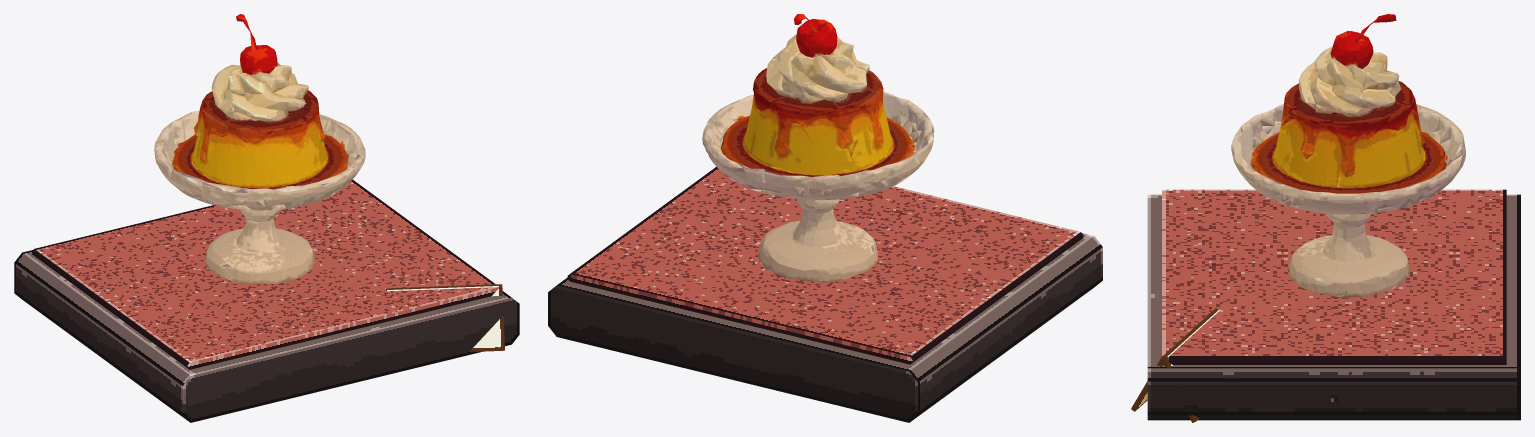
File: pudding.glb
3 views of the same model, side by side, from view 1: azimuth 30°, elevation 25°; view 2: azimuth 150°, elevation 25°; view 3: azimuth 270°, elevation 25° (orthographic). The views are drawn at different scales.
Visible parts, largest first — view 1: felt, model_purin, base, card1; view 2: felt, model_purin, base; view 3: felt, model_purin, base, card1.
Boxes of the visible parts, <box> form: felt: <box>32,179,499,369</box>; model_purin: <box>154,14,365,284</box>; base: <box>14,250,519,422</box>; card1: <box>386,286,504,351</box>; felt: <box>567,167,1083,364</box>; model_purin: <box>702,14,934,282</box>; base: <box>548,233,1102,422</box>; felt: <box>1162,189,1506,364</box>; model_purin: <box>1231,14,1465,297</box>; base: <box>1147,194,1520,420</box>; card1: <box>1131,308,1217,411</box>.
Bounding box in the file's own units: 30.12 × 24.6 × 27.15.
Materials: 2 (2 with a texture image).
